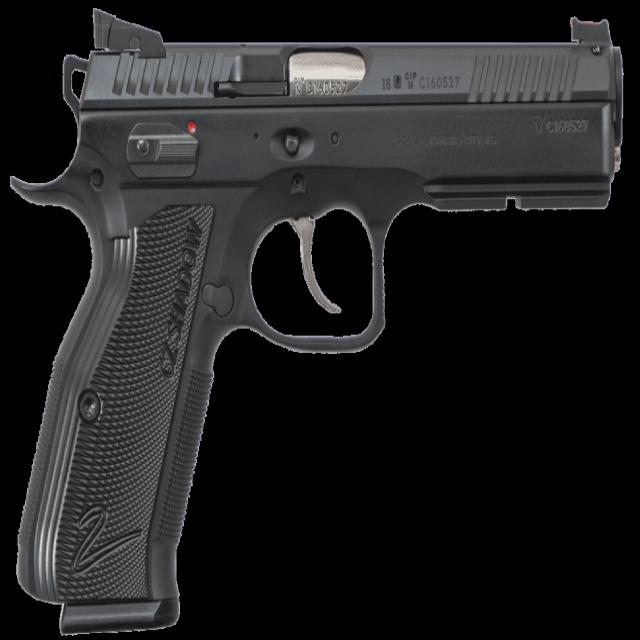HandGun: (8, 10, 624, 640)
